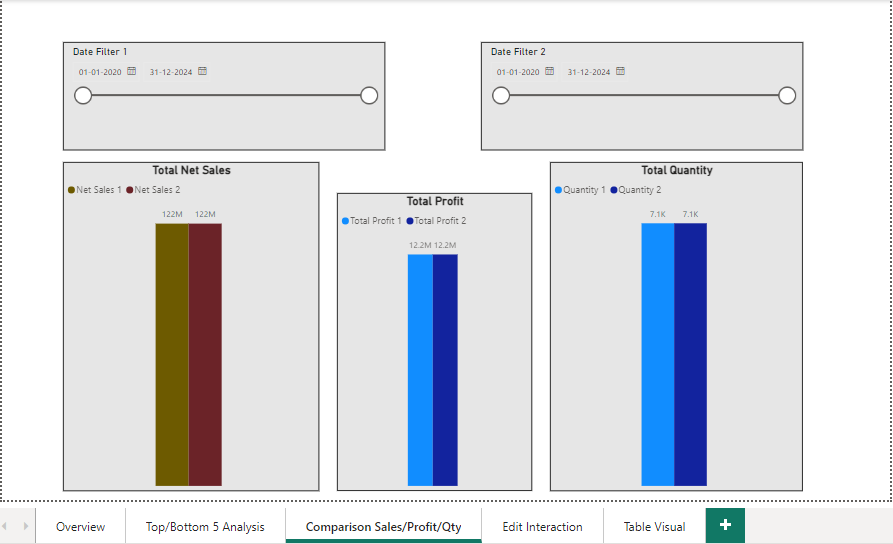

Layout of this report page (visuals, bound fields, positions):
{"tool":"powerbi","page":{"name":"Comparison Sales/Profit/Qty","canvas":[1280,720],"ordinal":2},"visuals":[{"type":"slicer","fields":{"Values":["Date Table 1.Date"]},"box":[87.8,60.5,463.7,155.5],"z":0},{"type":"slicer","fields":{"Values":["Date Table 2.Date"]},"box":[689.8,60.5,463.7,155.5],"z":1000},{"type":"clusteredColumnChart","title":"Total Net Sales","fields":{"Y":["Sum(Fact Table.Net Sales)","Date Table 1.Sum of Net Sales"]},"box":[87.8,277.9,280.8,429.1],"z":2000},{"type":"clusteredColumnChart","title":"Total Profit","fields":{"Y":["Sum(Fact Table.Profit)","Measures Table.Total Profit"]},"box":[482.4,277.9,280.8,429.1],"z":3000},{"type":"clusteredColumnChart","title":"Total Quantity","fields":{"Y":["Sum(Fact Table.Units Sold)","Measures Table.Quantity"]},"box":[872.6,277.9,280.8,429.1],"z":4000}]}

Visuals, with their boxes on the page's 1280x720 design canvas (x1, y1, x2, y2). These are canvas units, not pixel positions in the 893x544 screenshot, which may show the page scaled, cropped or inside an application window:
slicer - Date Table 1.Date: <bbox>88, 60, 552, 216</bbox>
slicer - Date Table 2.Date: <bbox>690, 60, 1154, 216</bbox>
"Total Net Sales" clusteredColumnChart: <bbox>88, 278, 369, 707</bbox>
"Total Profit" clusteredColumnChart: <bbox>482, 278, 763, 707</bbox>
"Total Quantity" clusteredColumnChart: <bbox>873, 278, 1153, 707</bbox>
